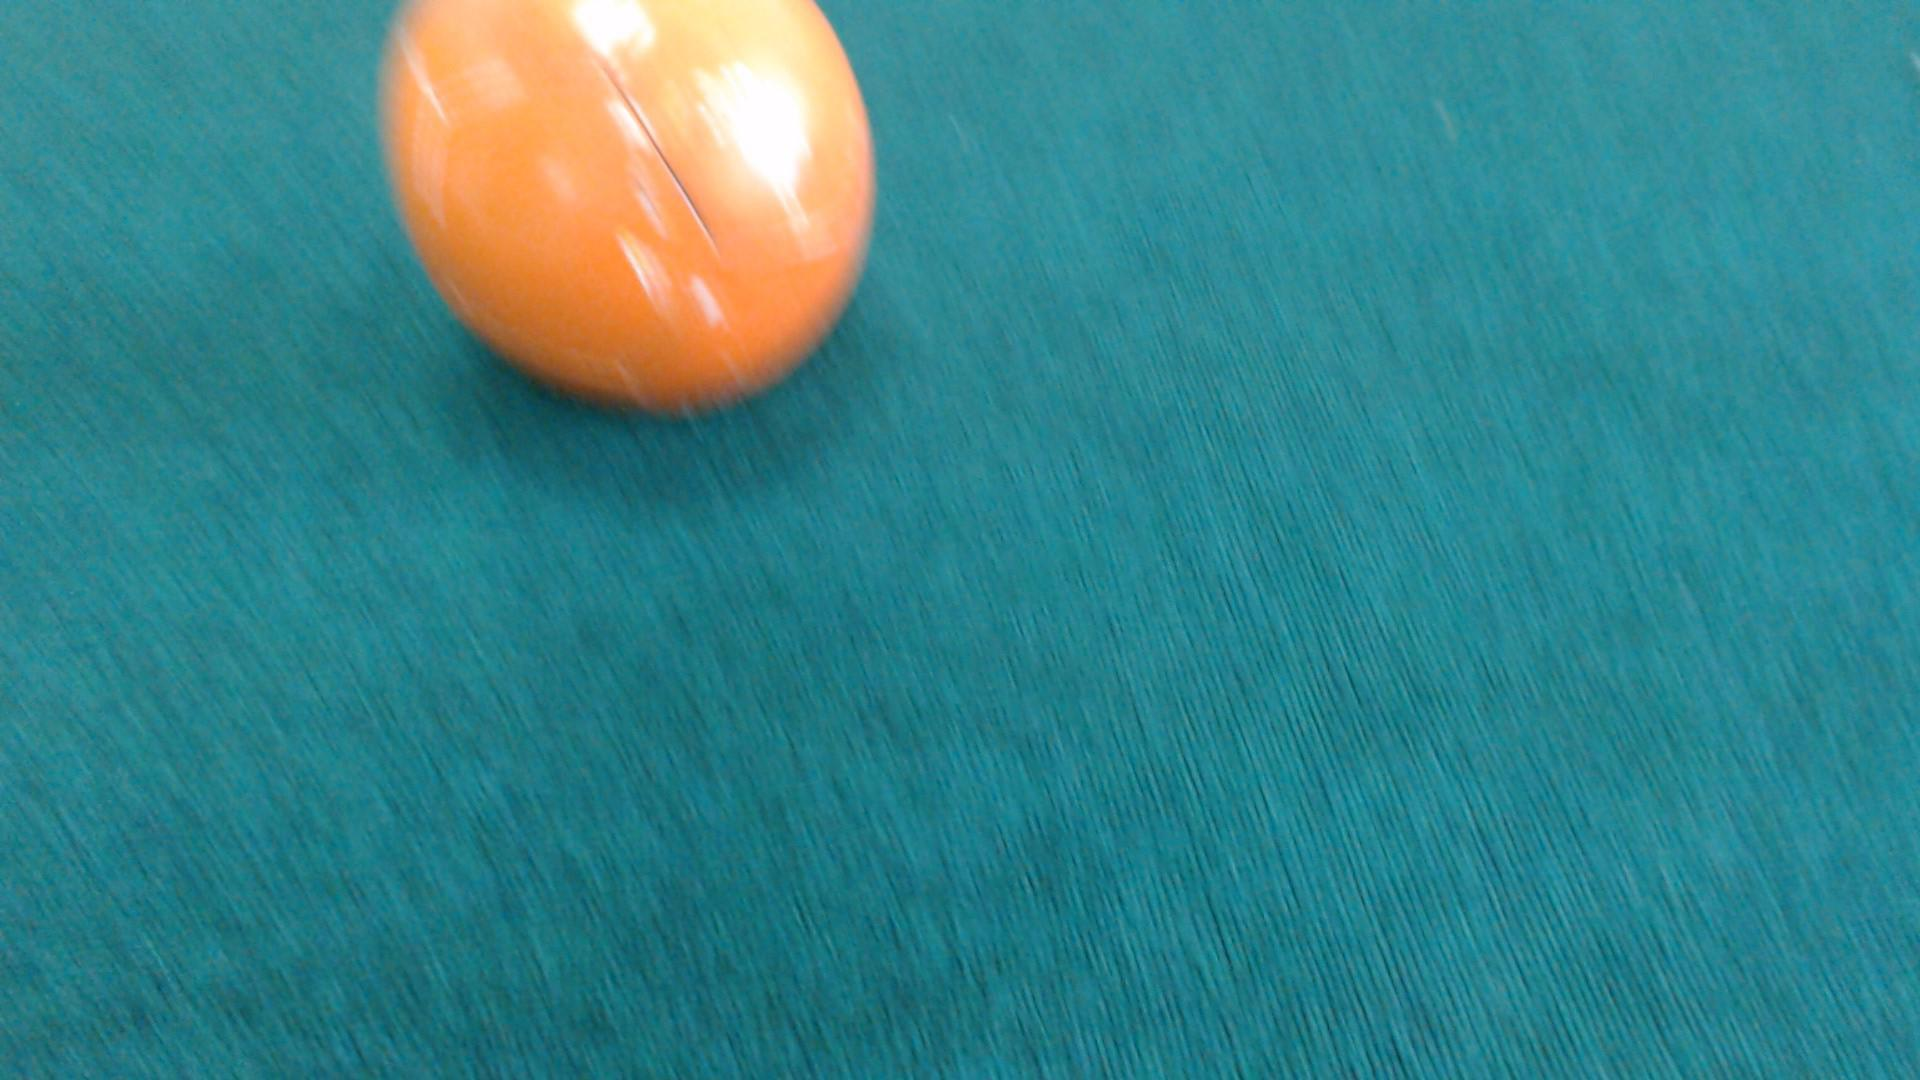bola: (367, 0, 901, 444)
